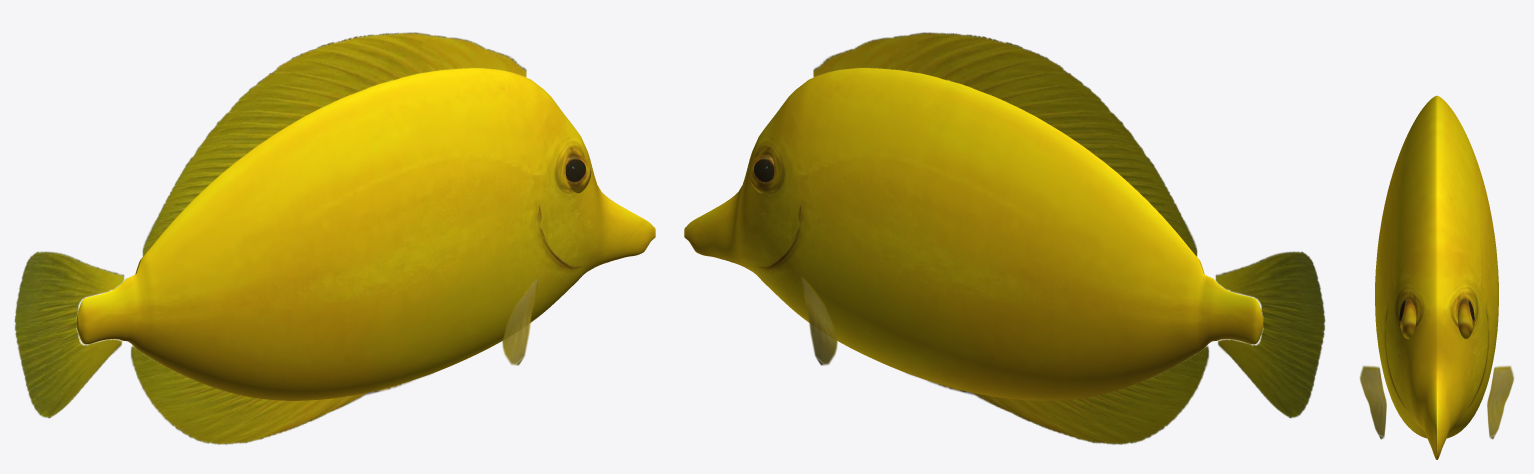
File: real-zebrasoma.glb
3 renders of one model, left to right at view 1: azimuth 30°, elevation 25°; view 2: azimuth 150°, elevation 25°; view 3: azimuth 270°, elevation 25°, orthographic. The views are drawn at different scales.
Visible parts, largest first — view 1: zebrasoma_flavescens; view 2: zebrasoma_flavescens; view 3: zebrasoma_flavescens.
Part boxes in pixels (x1=…): zebrasoma_flavescens: x1=14, y1=32, x2=655, y2=444; zebrasoma_flavescens: x1=684, y1=32, x2=1325, y2=444; zebrasoma_flavescens: x1=1360, y1=95, x2=1513, y2=459.
Size of the model in its own units: 0.2003 by 0.1136 by 0.0476.
1 material, 1 textured.
